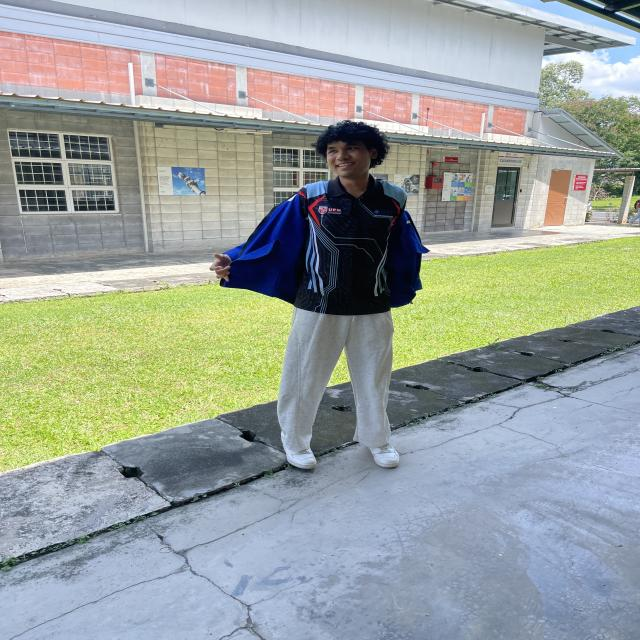person_without_labcoat: (211, 121, 427, 469)
